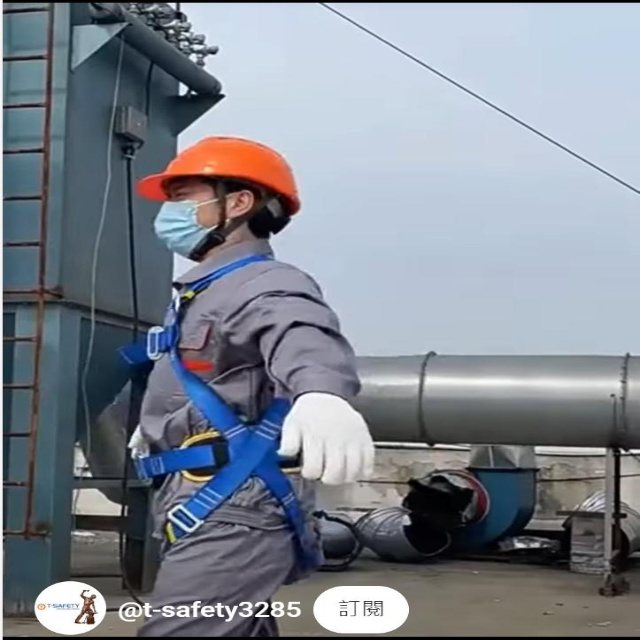Arnes_seguridad: (120, 246, 330, 573)
